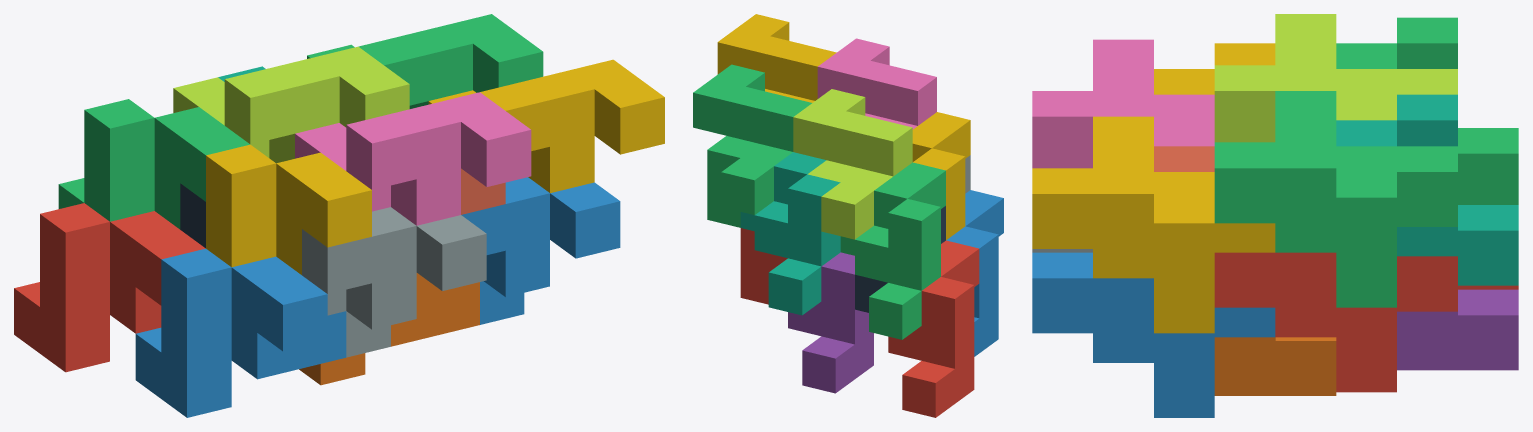
File: tiling.obj
3 views of the same model, side by side, from view 1: azimuth 30°, elevation 25°; view 2: azimuth 150°, elevation 25°; view 3: azimuth 270°, elevation 25° (orthographic). The views are drawn at different scales.
Parts seen in each view (by area): view 1: copy_1_domain_2, copy_1_domain_1, copy_2_domain_4, copy_1_domain_4, copy_2_domain_2, copy_2_domain_3, copy_1_domain_3, copy_2_domain_8, copy_2_domain_6, copy_2_domain_7, copy_1_domain_6, copy_1_domain_8 (+1 smaller); view 2: copy_2_domain_7, copy_1_domain_3, copy_2_domain_3, copy_1_domain_1, copy_1_domain_7, copy_1_domain_5, copy_2_domain_4, copy_2_domain_8, copy_1_domain_2, copy_1_domain_4, copy_2_domain_5, copy_2_domain_1; view 3: copy_2_domain_7, copy_2_domain_8, copy_2_domain_5, copy_2_domain_6, copy_2_domain_3, copy_2_domain_4, copy_1_domain_7, copy_1_domain_3, copy_1_domain_5, copy_1_domain_6, copy_1_domain_4, copy_1_domain_8.
Part boxes in pixels (<box>): copy_1_domain_2: <box>135,248,346,417</box>; copy_1_domain_1: <box>14,203,205,372</box>; copy_2_domain_4: <box>295,92,531,225</box>; copy_1_domain_4: <box>206,144,371,274</box>; copy_2_domain_2: <box>302,207,486,357</box>; copy_2_domain_3: <box>173,46,409,163</box>; copy_1_domain_3: <box>58,99,249,229</box>; copy_2_domain_8: <box>428,59,664,193</box>; copy_2_domain_6: <box>461,177,620,324</box>; copy_2_domain_7: <box>307,14,543,108</box>; copy_1_domain_6: <box>299,273,479,385</box>; copy_1_domain_8: <box>461,168,505,214</box>; copy_2_domain_7: <box>693,64,811,227</box>; copy_1_domain_3: <box>840,162,945,339</box>; copy_2_domain_3: <box>793,89,912,239</box>; copy_1_domain_1: <box>888,240,979,417</box>; copy_1_domain_7: <box>740,152,840,315</box>; copy_1_domain_5: <box>788,252,873,393</box>; copy_2_domain_4: <box>817,38,936,129</box>; copy_2_domain_8: <box>717,14,836,102</box>; copy_1_domain_2: <box>946,190,1003,356</box>; copy_1_domain_4: <box>912,112,970,239</box>; copy_2_domain_5: <box>740,228,787,304</box>; copy_2_domain_1: <box>855,206,945,312</box>; copy_2_domain_7: <box>1214,91,1457,307</box>; copy_2_domain_8: <box>1032,116,1275,333</box>; copy_2_domain_5: <box>1214,252,1457,392</box>; copy_2_domain_6: <box>1032,252,1275,417</box>; copy_2_domain_3: <box>1214,14,1457,142</box>; copy_2_domain_4: <box>1032,39,1214,168</box>; copy_1_domain_7: <box>1336,94,1518,285</box>; copy_1_domain_3: <box>1336,17,1518,204</box>; copy_1_domain_5: <box>1397,289,1518,370</box>; copy_1_domain_6: <box>1214,337,1336,395</box>; copy_1_domain_4: <box>1154,43,1275,94</box>; copy_1_domain_8: <box>1154,146,1214,171</box>.
Size of the model in its own units: 10 by 6 by 8.
